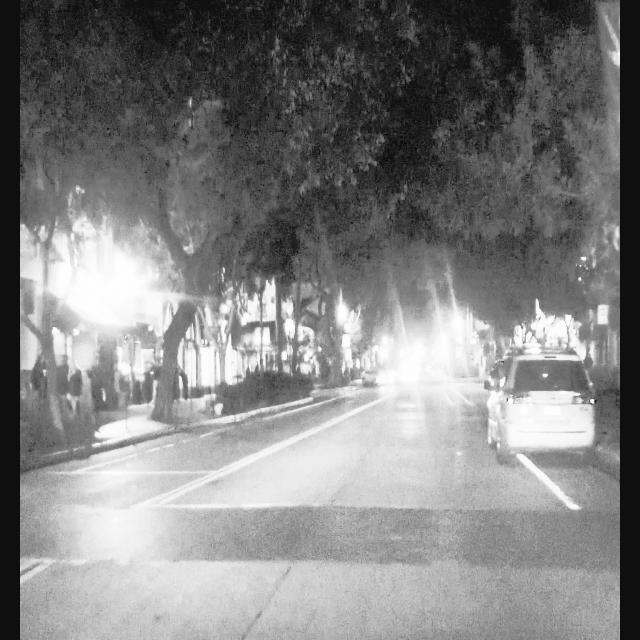Car: (484, 344, 596, 468)
Tree: (142, 38, 235, 430), (22, 34, 79, 448)
